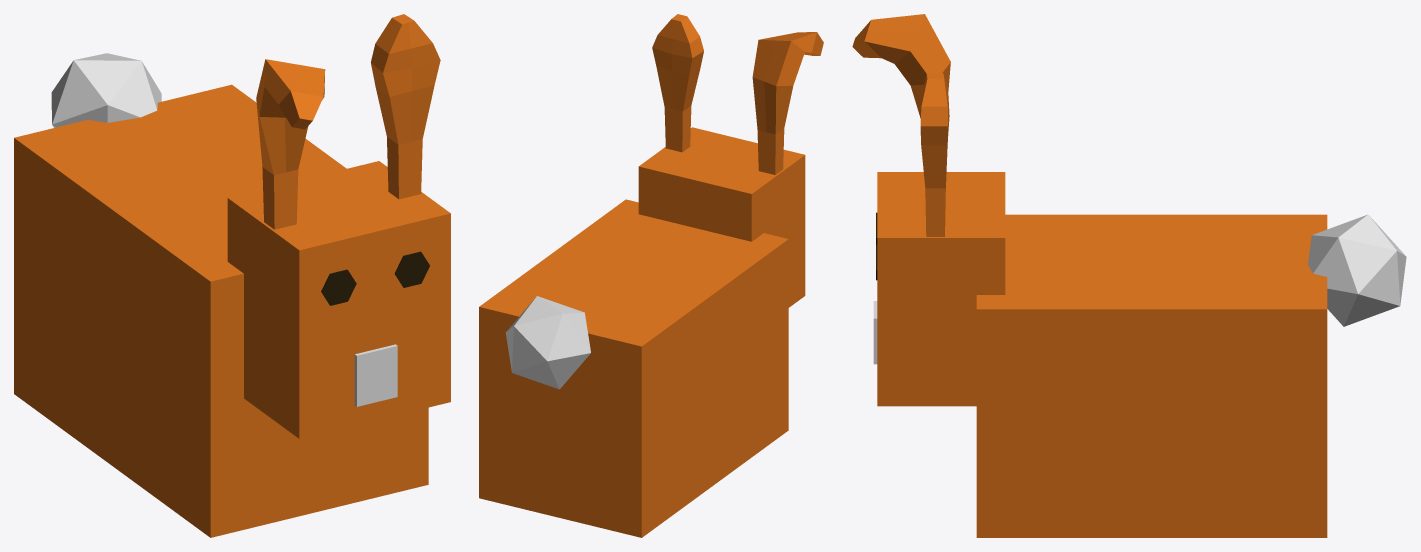
Rendered from Bunny2.fbx.
3 views of the same model, side by side, from view 1: azimuth 30°, elevation 25°; view 2: azimuth 150°, elevation 25°; view 3: azimuth 270°, elevation 25° (orthographic). The views are drawn at different scales.
Visible parts, largest first — view 1: Bunny; view 2: Bunny; view 3: Bunny.
Boxes of the visible parts, x1,y1,x2,y2 form: Bunny: [14, 14, 450, 537]; Bunny: [479, 14, 823, 537]; Bunny: [852, 14, 1406, 537].
Bounding box in the file's own units: 6.46 × 14.01 × 15.96.
